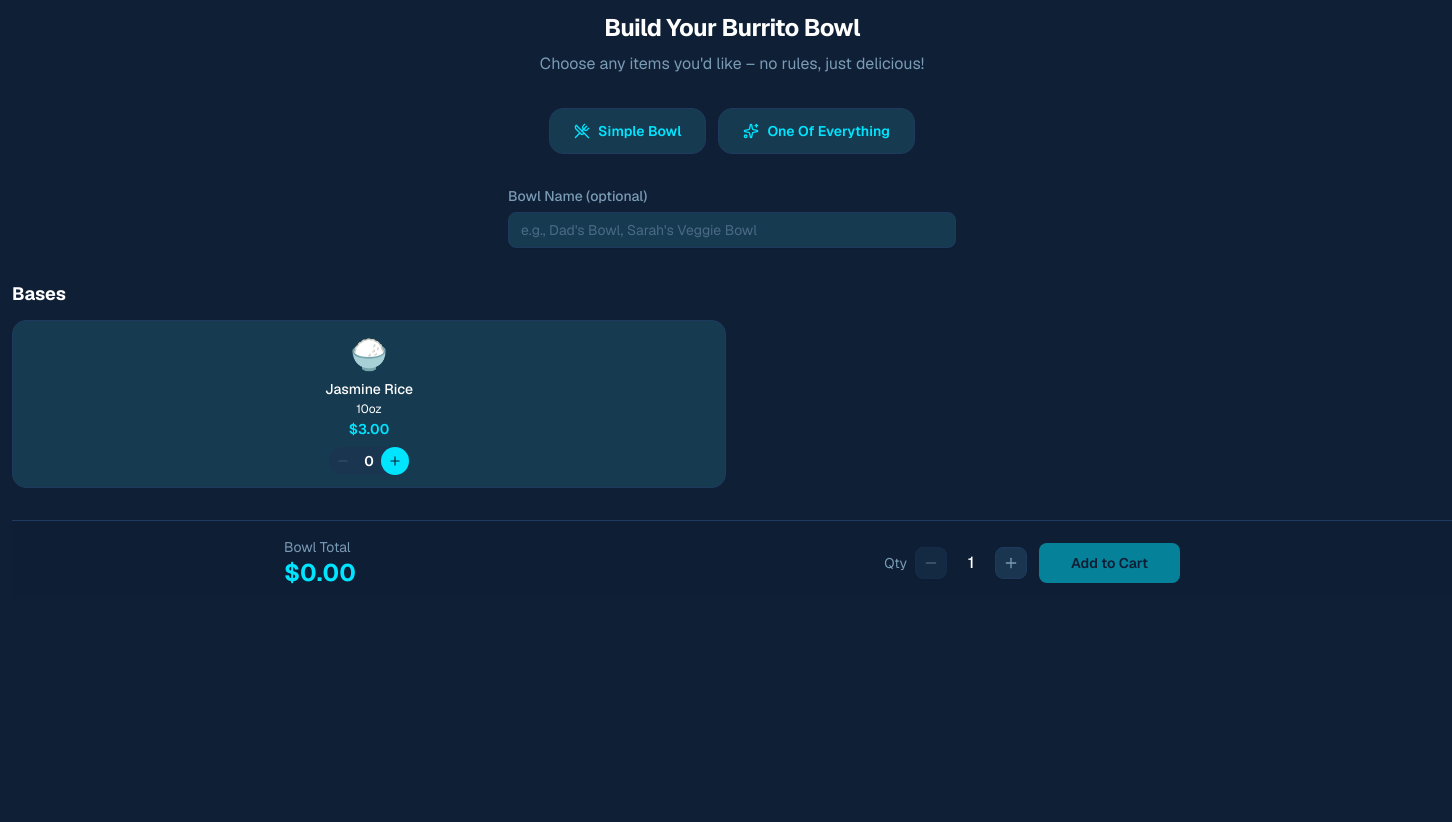
Test case: BowlBuilder › Add to Cart button is enabled after selecting an ingredient
Click the text "Jasmine Rice".
click(369, 390)  # box [325,381,413,398]
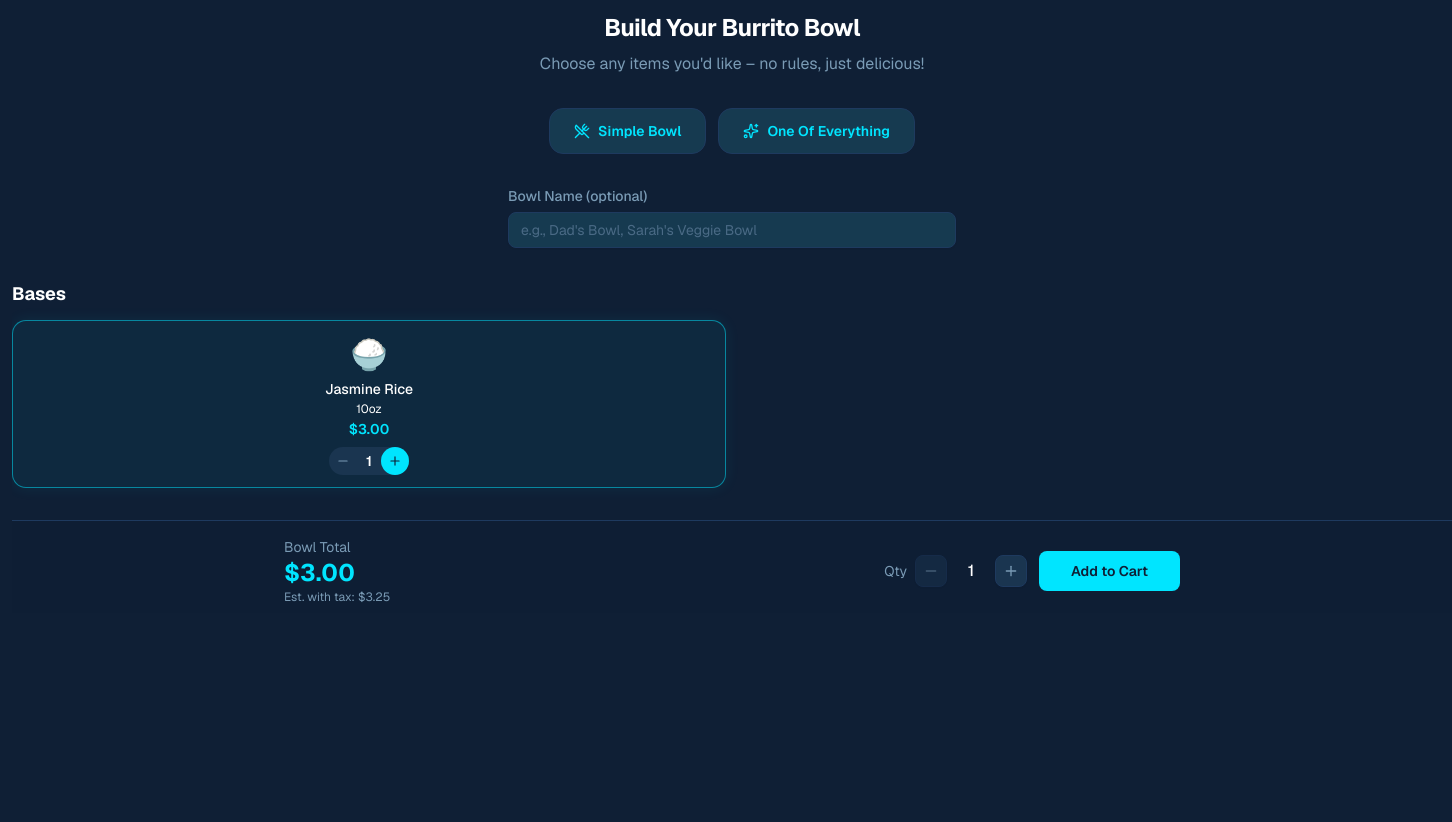
Now the button "Add to Cart" is enabled, box [1039,550,1180,590]
